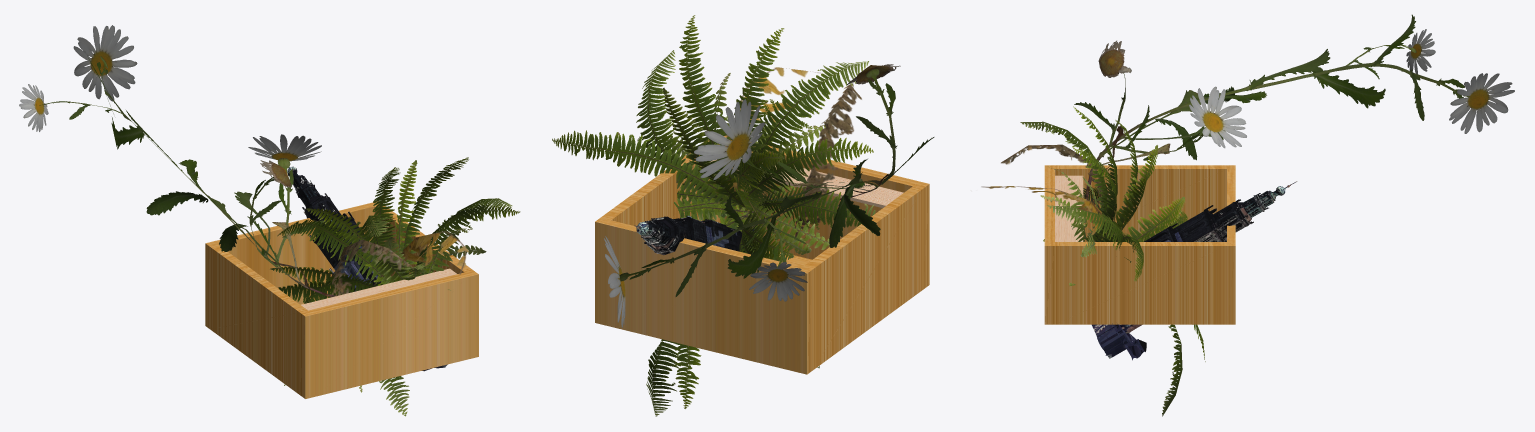
File: space.gltf
3 renders of one model, left to right at view 1: azimuth 30°, elevation 25°; view 2: azimuth 150°, elevation 25°; view 3: azimuth 270°, elevation 25°, orthographic. The views are drawn at different scales.
Visible parts, largest first — view 1: Plane, Plane026_Material #47_0, Plane068_Material #48_0, BuildingMesh-00000.002, Cube, Plane051_Material #47_0, Plane054_Material #47_0; view 2: Plane, Plane026_Material #47_0, Plane068_Material #48_0, BuildingMesh-00000.002, Plane051_Material #47_0, Cube, Plane054_Material #47_0; view 3: Plane, Plane068_Material #48_0, Plane026_Material #47_0, BuildingMesh-00000.002, Cube, Plane051_Material #47_0, Plane054_Material #47_0.
Boxes of the visible parts, box(x1,y1,x2,y2) form: Plane: box(205, 201, 478, 398); Plane026_Material #47_0: box(270, 157, 520, 416); Plane068_Material #48_0: box(19, 25, 336, 297); BuildingMesh-00000.002: box(287, 166, 447, 371); Cube: box(301, 268, 457, 310); Plane051_Material #47_0: box(331, 239, 413, 295); Plane054_Material #47_0: box(373, 231, 468, 285); Plane: box(595, 135, 929, 374); Plane026_Material #47_0: box(552, 15, 875, 416); Plane068_Material #48_0: box(604, 64, 934, 327); BuildingMesh-00000.002: box(634, 215, 756, 255); Plane051_Material #47_0: box(794, 83, 861, 239); Cube: box(710, 158, 903, 207); Plane054_Material #47_0: box(726, 67, 821, 229); Plane: box(1044, 165, 1235, 324); Plane068_Material #48_0: box(1074, 14, 1514, 200); Plane026_Material #47_0: box(1020, 106, 1205, 416); BuildingMesh-00000.002: box(1092, 181, 1297, 360); Cube: box(1055, 175, 1083, 241); Plane051_Material #47_0: box(1001, 144, 1108, 214); Plane054_Material #47_0: box(981, 186, 1114, 239).
Size of the model in its own units: 4.13 by 3.62 by 5.79.
Materials: 31 (31 with a texture image).
